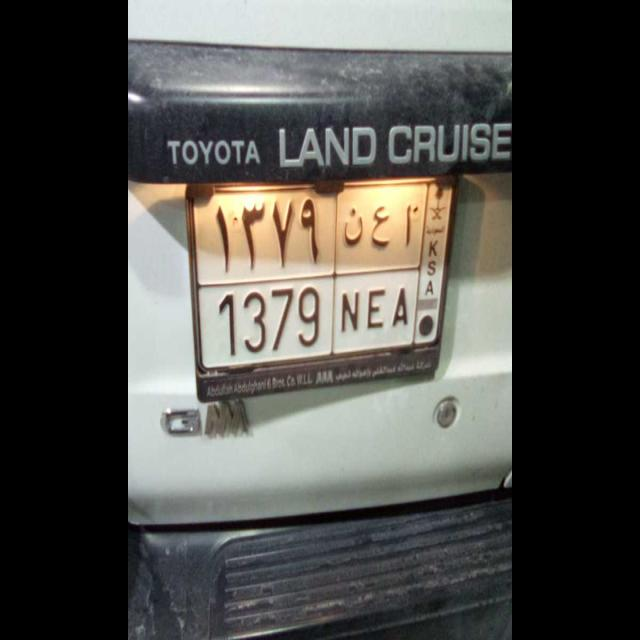license_plate: (203, 276, 416, 358)
